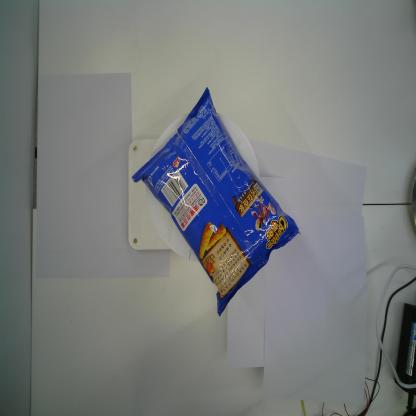Puffed Food: (130, 85, 302, 319)
